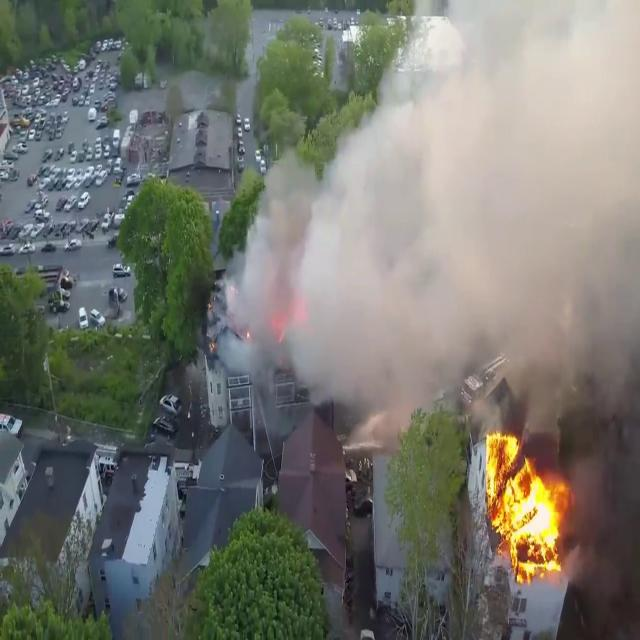Fire: (476, 425, 574, 576)
Smoke: (217, 0, 640, 422)
